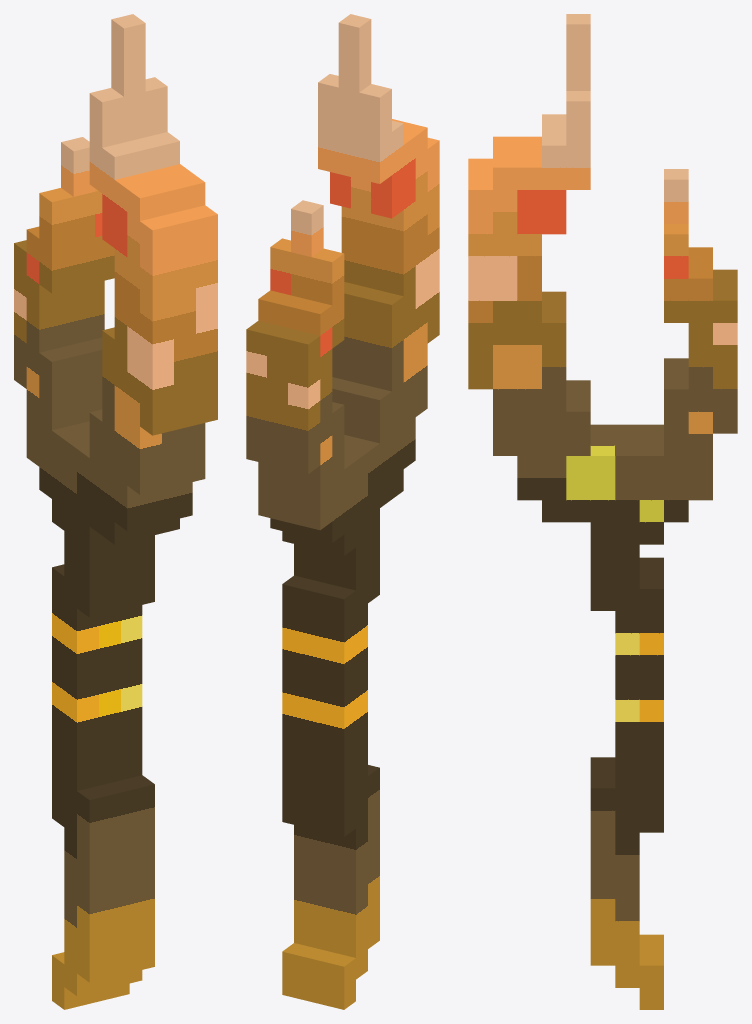
File: 异界权杖.gltf
The picture shows the model from 3 angles, left to right: view 1: azimuth 30°, elevation 25°; view 2: azimuth 150°, elevation 25°; view 3: azimuth 270°, elevation 25°; orthographic projection. The views are drawn at different scales.
Parts seen in each view (by area): view 1: Object; view 2: Object; view 3: Object.
Part boxes in pixels (x1=…): Object: x1=14, y1=14, x2=217, y2=1009; Object: x1=246, y1=14, x2=439, y2=1009; Object: x1=468, y1=14, x2=737, y2=1009.
Bounding box in the file's own units: 3 × 44 × 11.
Materials: 1 (1 with a texture image).
